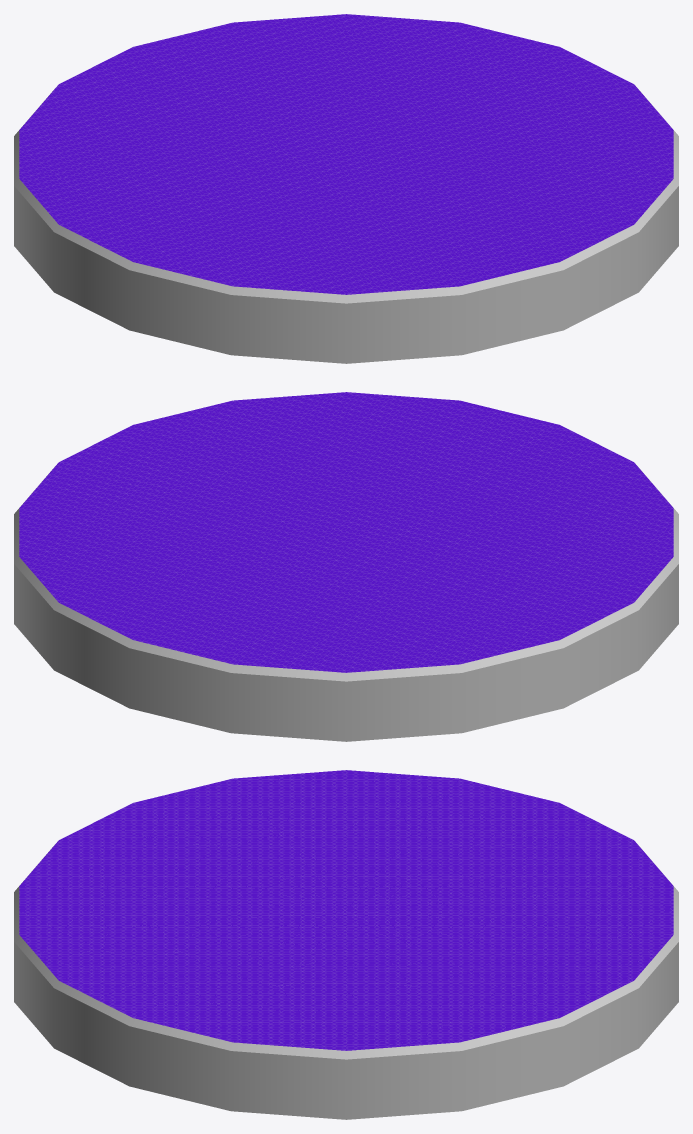
Rendered from TestPlatform.FBX.
3 renders of one model, top to bottom at view 1: azimuth 30°, elevation 25°; view 2: azimuth 150°, elevation 25°; view 3: azimuth 270°, elevation 25°, orthographic.
Parts seen in each view (by area): view 1: Cylinder001; view 2: Cylinder001; view 3: Cylinder001.
Boxes of the visible parts, bbox=[...] form: Cylinder001: bbox=[14, 14, 678, 363]; Cylinder001: bbox=[14, 392, 678, 741]; Cylinder001: bbox=[14, 770, 678, 1119].
Size of the model in its own units: 125 by 13.58 by 123.
